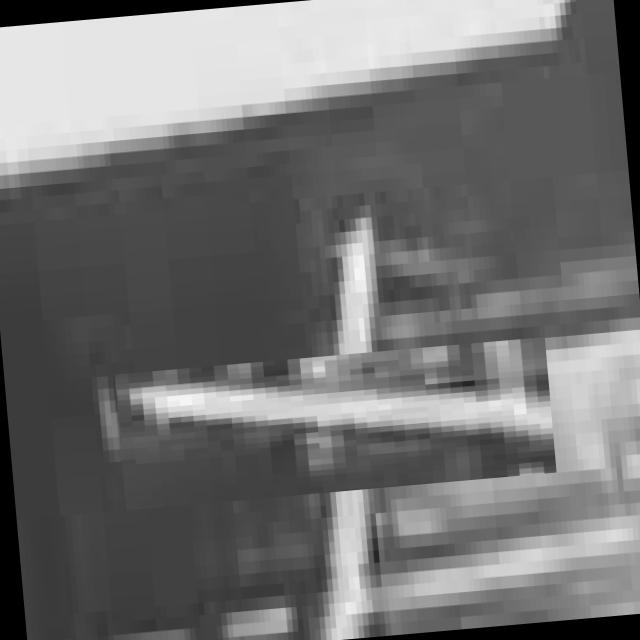stick: (182, 269, 489, 577)
